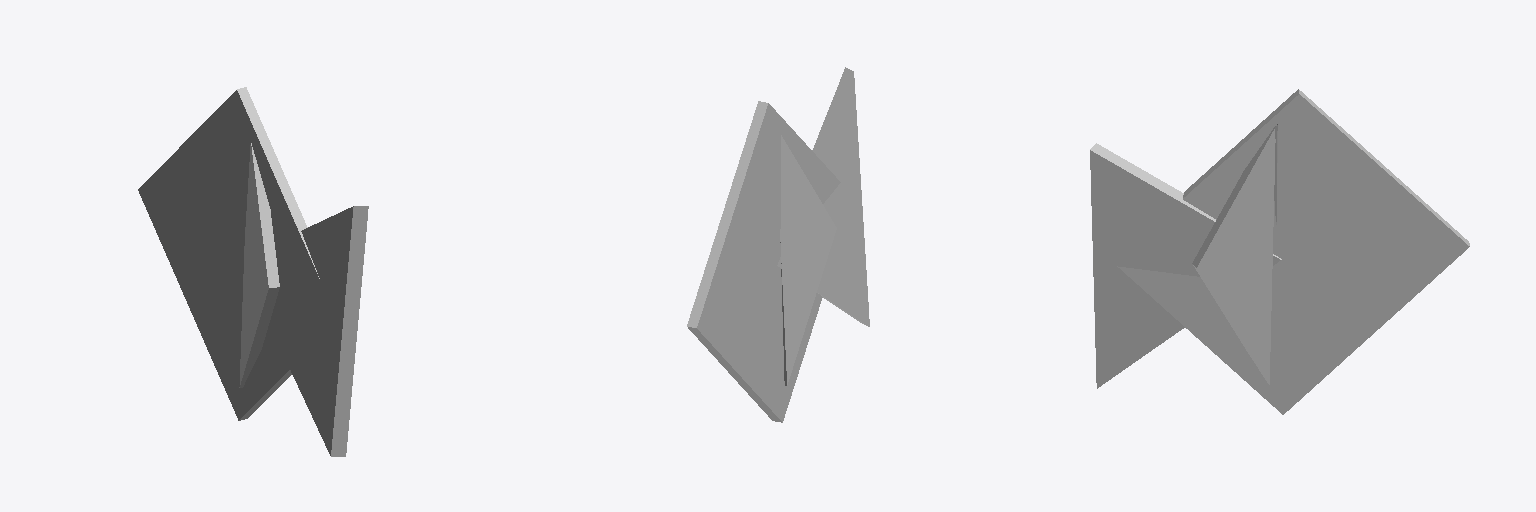
The model's file is orangefishmesh.obj.
3 views of the same model, side by side, from view 1: azimuth 30°, elevation 25°; view 2: azimuth 150°, elevation 25°; view 3: azimuth 270°, elevation 25° (orthographic).
Visible parts, largest first — view 1: orangefishmesh; view 2: orangefishmesh; view 3: orangefishmesh.
Part boxes in pixels (bbox=[...]): orangefishmesh: bbox=[138, 87, 368, 456]; orangefishmesh: bbox=[687, 67, 869, 422]; orangefishmesh: bbox=[1090, 89, 1469, 414].
Size of the model in its own units: 0.2308 by 1.27 by 1.35.